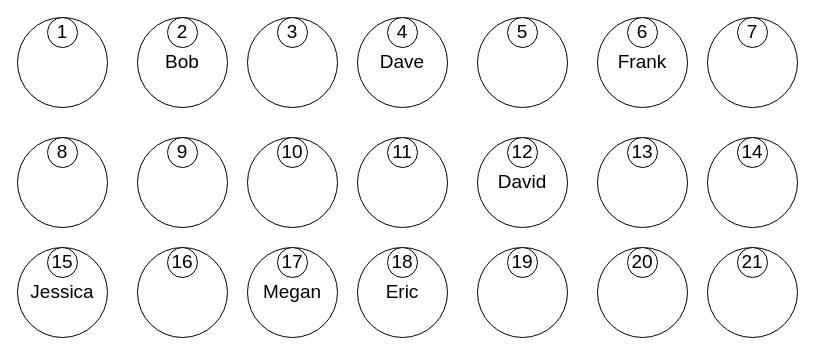
Image size: 815x355. Some labels were removed from this diagram. The box of each missing label's shape, as (x1, y1, x2, y2) in pixels:
Alex: (136, 246, 228, 338)
Alice: (16, 16, 108, 108)
Charlie: (246, 16, 338, 108)
Emily: (596, 136, 688, 228)
Eve: (476, 16, 568, 108)
Grace: (706, 16, 798, 108)
Hank: (16, 136, 108, 228)
Isabella: (706, 246, 798, 338)
Ivy: (136, 136, 228, 228)
Jack: (596, 246, 688, 338)
Jane: (356, 136, 448, 228)
John: (246, 136, 338, 228)
Mike: (706, 136, 798, 228)
Olivia: (476, 246, 568, 338)
